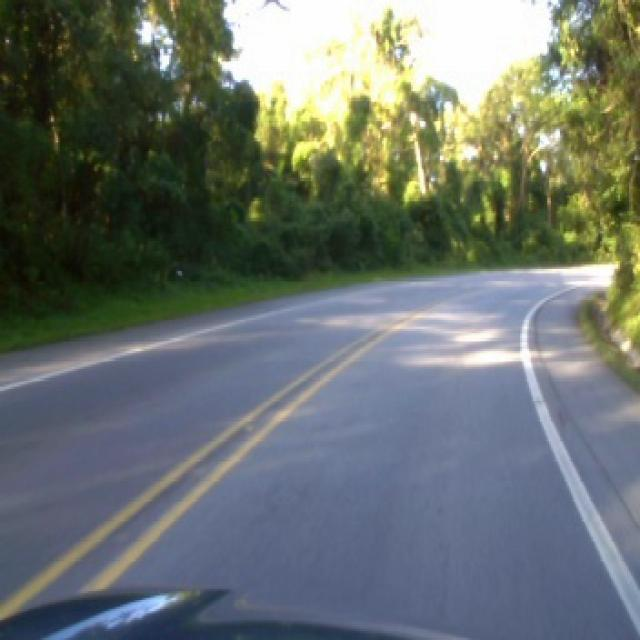Poth-hole: (243, 422, 254, 431)
